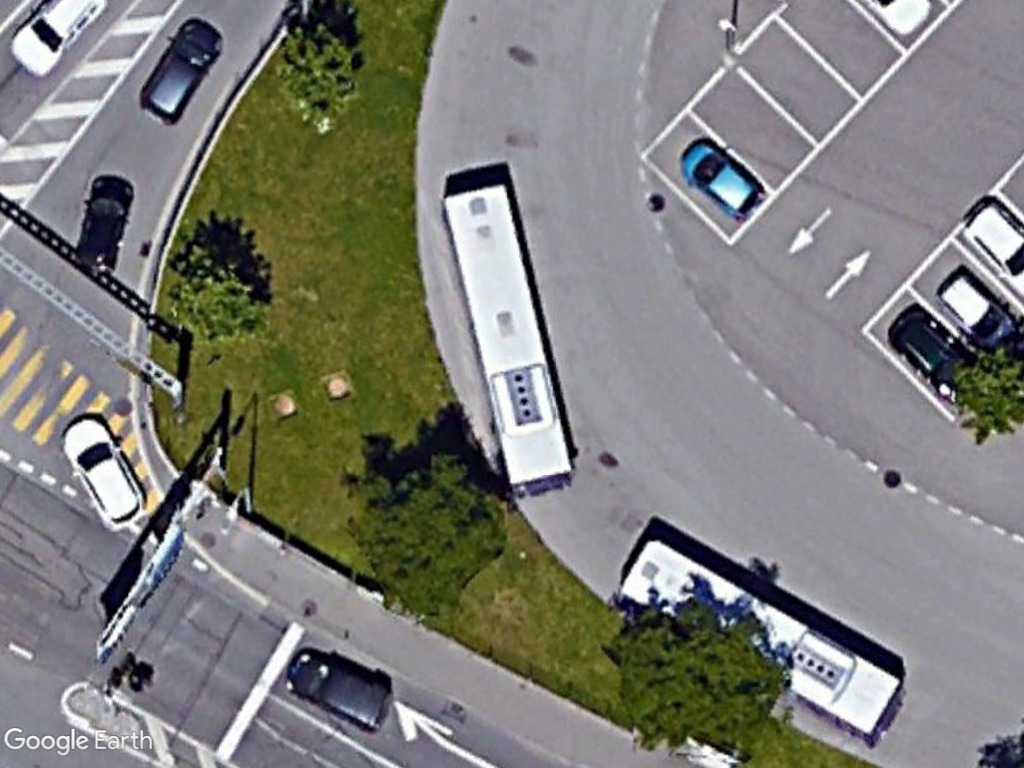bus: (441, 184, 582, 500)
car: (54, 413, 151, 532), (138, 15, 227, 134), (274, 647, 394, 730), (675, 141, 768, 221)
